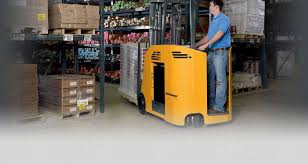Pallet Jack: (123, 26, 232, 135)
